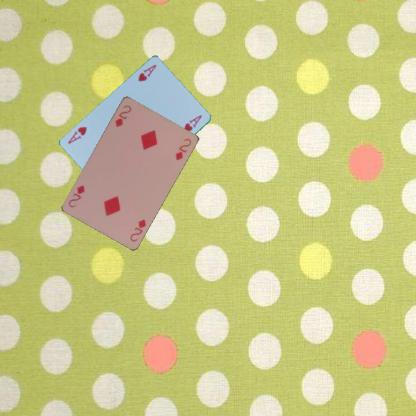2d: (127, 216, 147, 243), (112, 102, 132, 128)
Ah: (135, 62, 158, 82)
